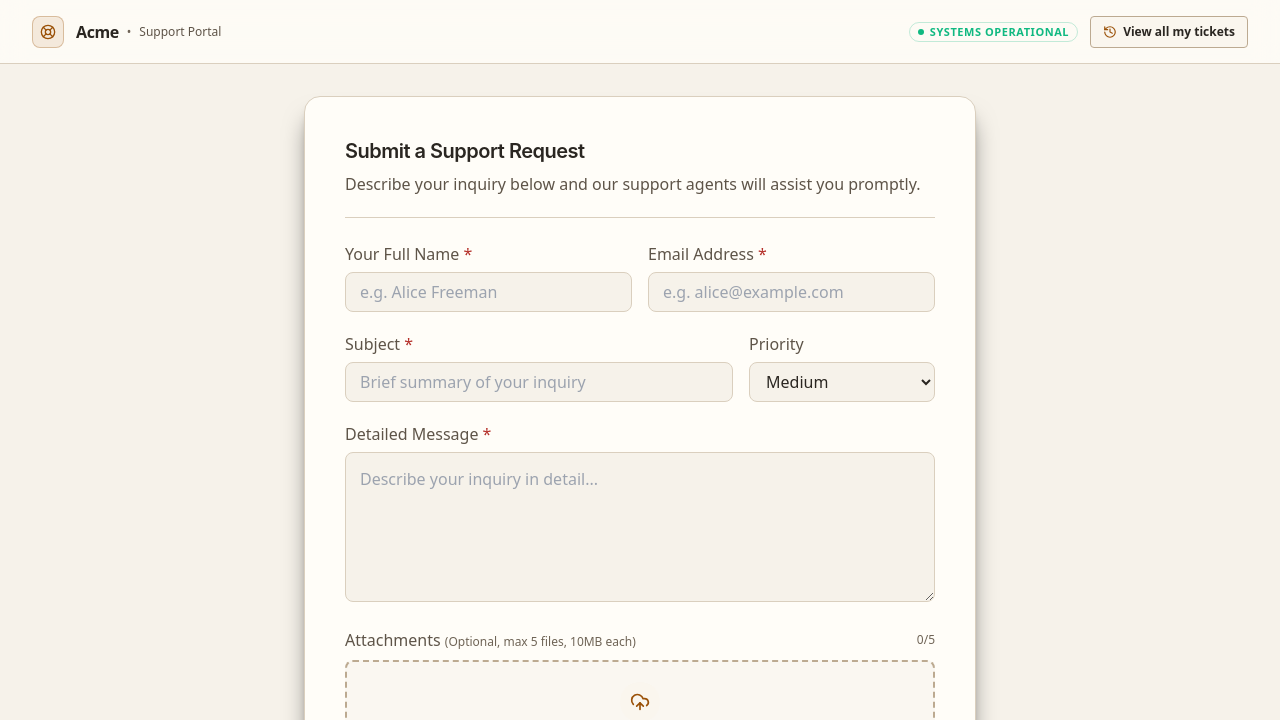
Test: Customer Support Portal Shell & Public Ticket Intake › allows requesting magic links via email through Find My Tickets modal/view
# Open modal via header button
Click the button with test id "portal-find-tickets-btn" at (1169, 32), box [1090,16,1248,48]
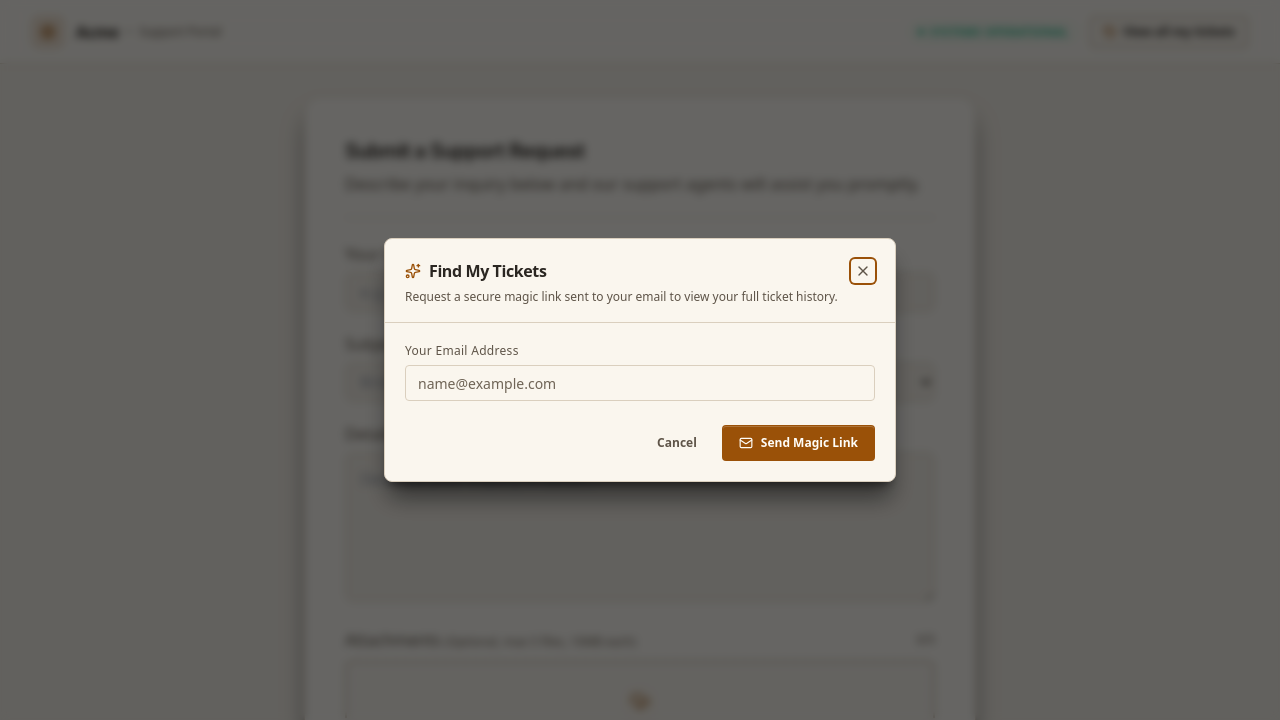
Expected: the heading "Find My Tickets" is shown, [405,260,546,282]
Type "returning.customer@example.com" into the field with test id "portal-magic-link-email" at (640, 383), box [405,365,875,401]
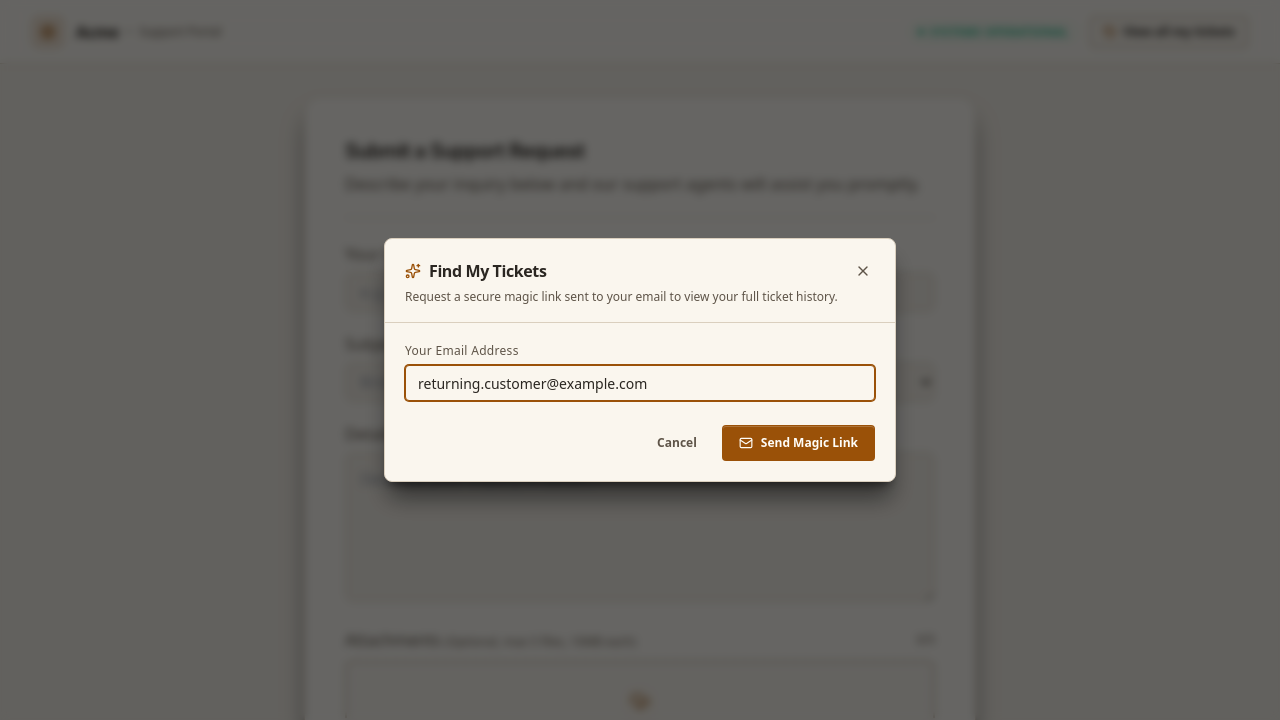
Click the button with test id "portal-magic-link-submit-btn" at (798, 443), box [722,425,875,461]
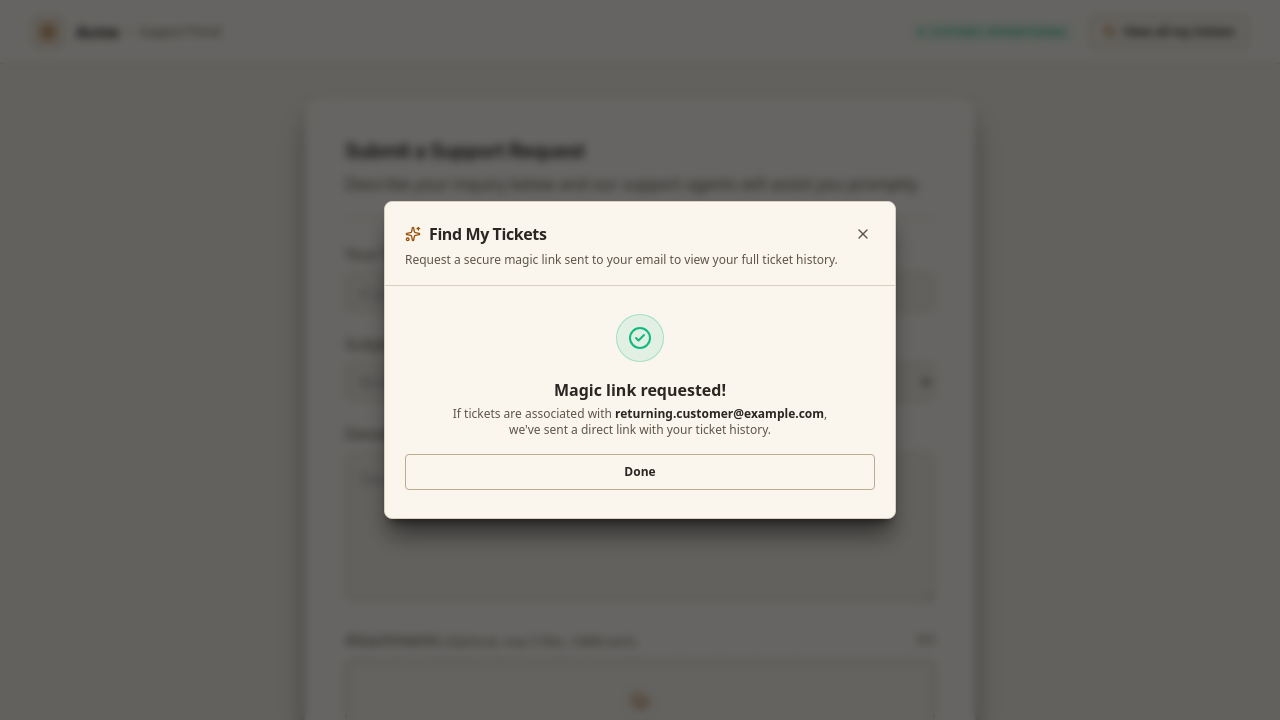
Expected: the element with test id "portal-magic-link-success" is shown, [405,306,875,498]
Expected: the heading "Magic link requested!" is shown, [554,379,726,401]
Expected: the text "returning.customer@example.com" is shown, [615,405,824,422]
# Click done to close modal
Click the button with test id "portal-magic-link-done-btn" at (640, 472), box [405,454,875,490]
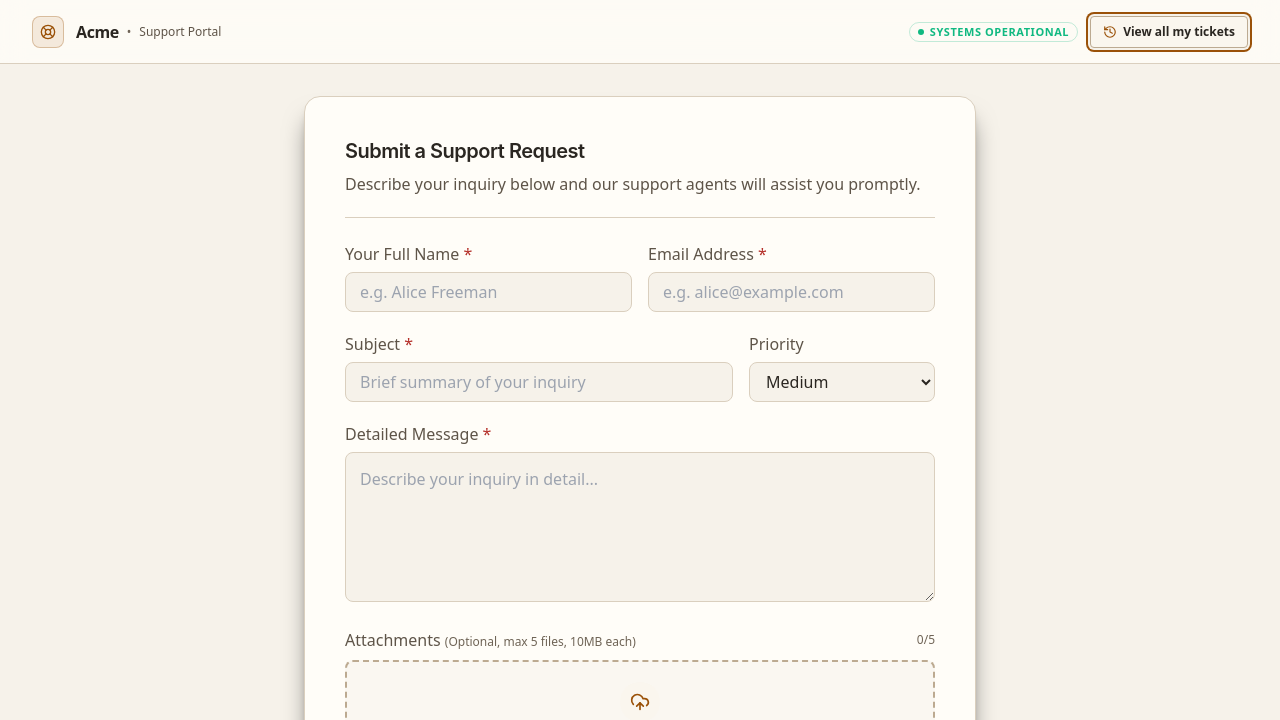
Expected: the element with test id "portal-magic-link-success" is gone
